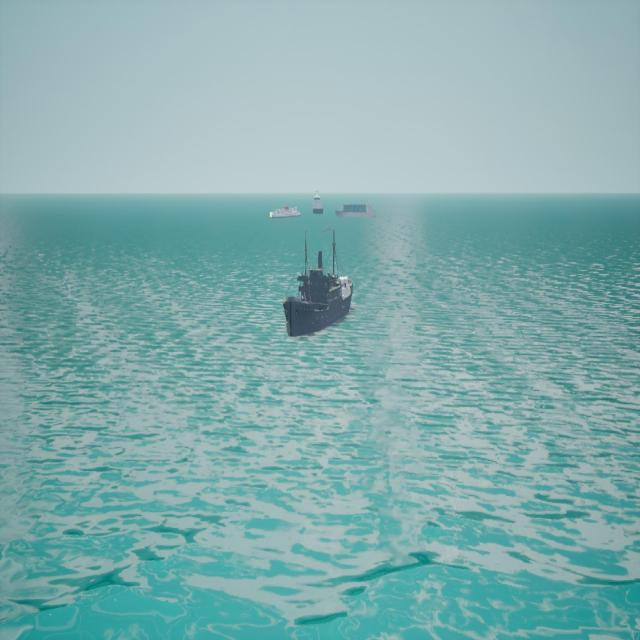fishing ship: (285, 224, 353, 340), (336, 204, 377, 220), (270, 206, 303, 220)
